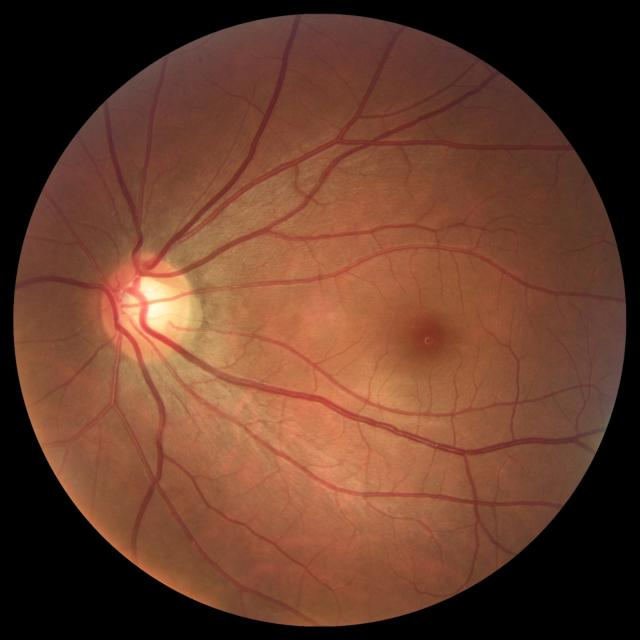OC: (118, 275, 173, 331)
OD: (102, 252, 195, 362)
